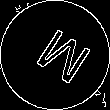M_SW: (22, 21, 88, 88)
